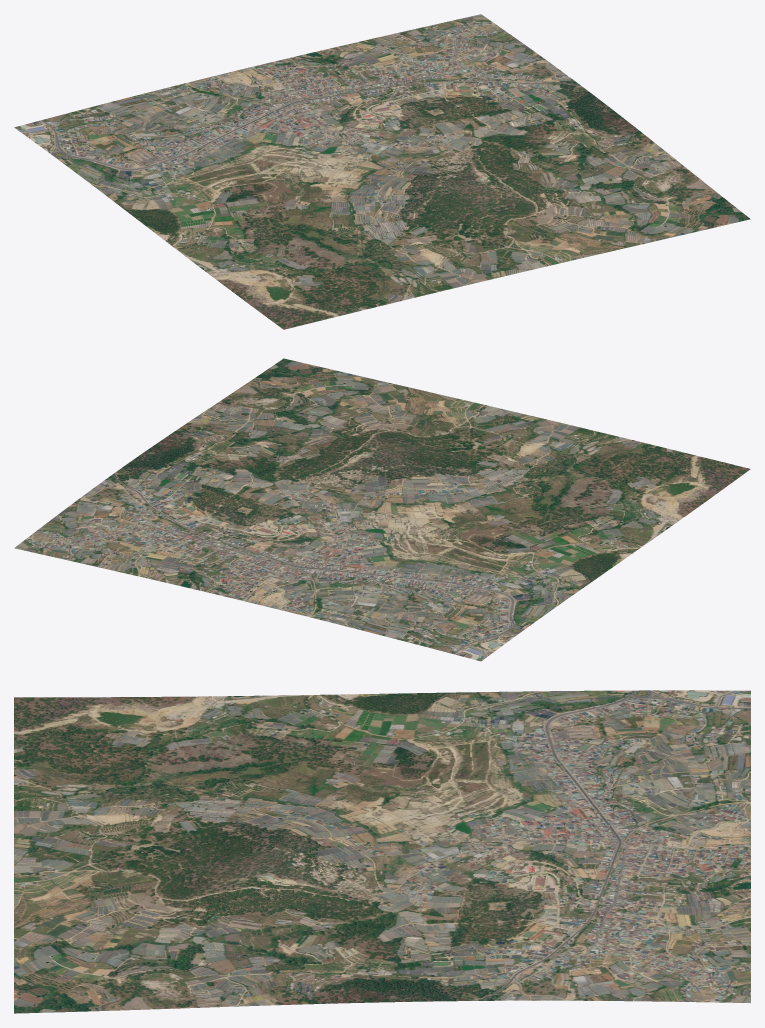
Rendered from terrain_real_T_E03_N00.glb.
The picture shows the model from 3 angles, top to bottom: view 1: azimuth 30°, elevation 25°; view 2: azimuth 150°, elevation 25°; view 3: azimuth 270°, elevation 25°; orthographic projection. The views are drawn at different scales.
Parts seen in each view (by area): view 1: Terrain_Real_DEM_T_E03_N00; view 2: Terrain_Real_DEM_T_E03_N00; view 3: Terrain_Real_DEM_T_E03_N00.
Boxes of the visible parts, left/top/right/bottom form: Terrain_Real_DEM_T_E03_N00: left=14, top=14, right=750, bottom=329; Terrain_Real_DEM_T_E03_N00: left=14, top=358, right=750, bottom=661; Terrain_Real_DEM_T_E03_N00: left=14, top=690, right=750, bottom=1013.
Size of the model in its own units: 2000 by 66.91 by 2000.
Materials: 1 (1 with a texture image).
